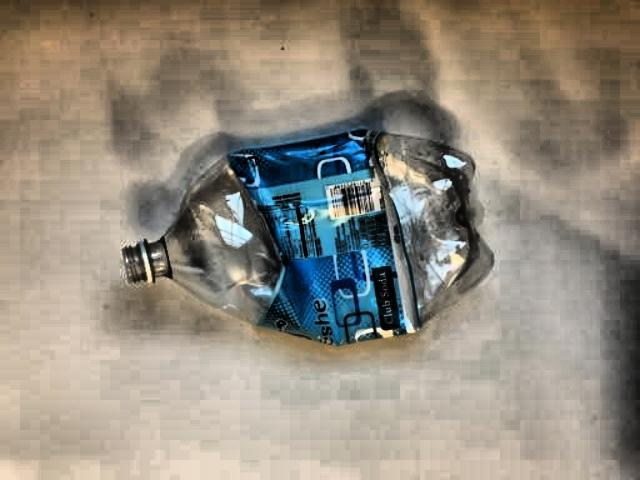Bottles: (105, 125, 512, 353)
